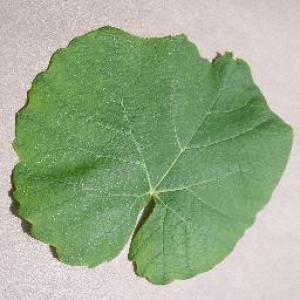Folha: (9, 23, 293, 285)
